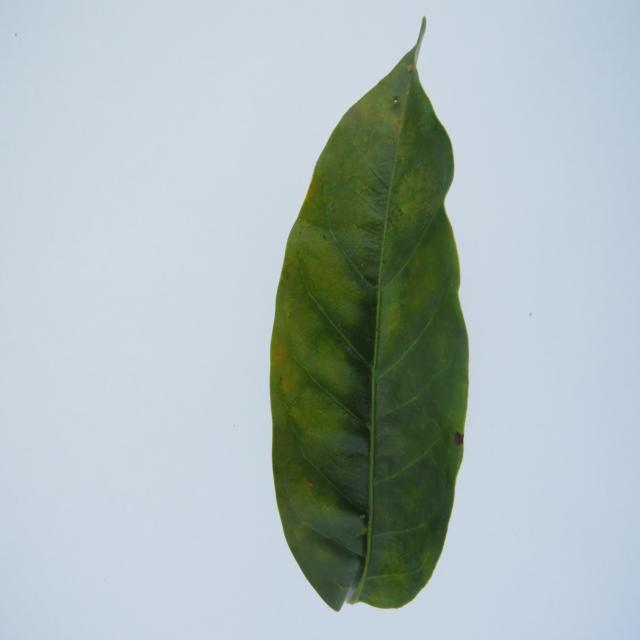DeficienciaNutricional-Magnesio: (271, 20, 469, 610)
